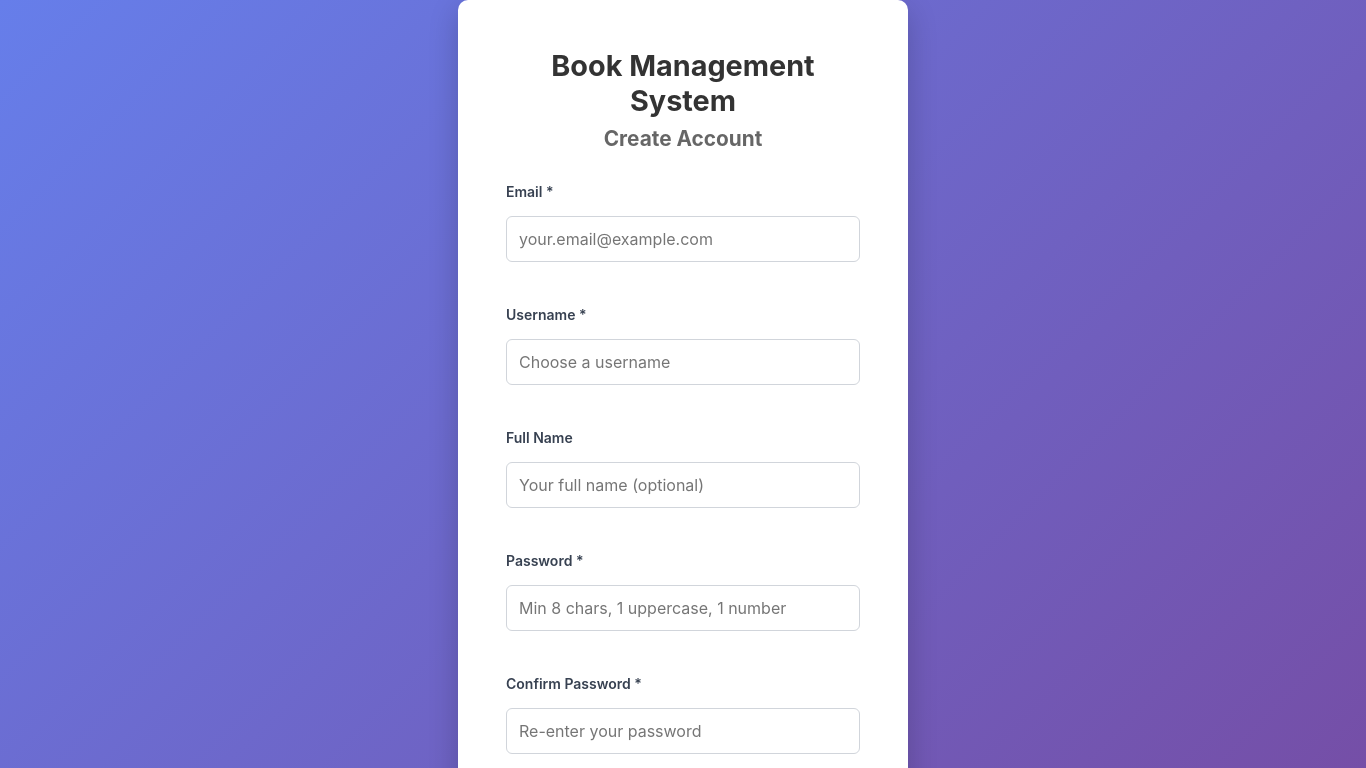
Scenario: Register Component › should validate password contains uppercase letter
Step 1. Type "test@example.com" into the field labelled "Email *" → [683, 239], box [506,216,860,262]
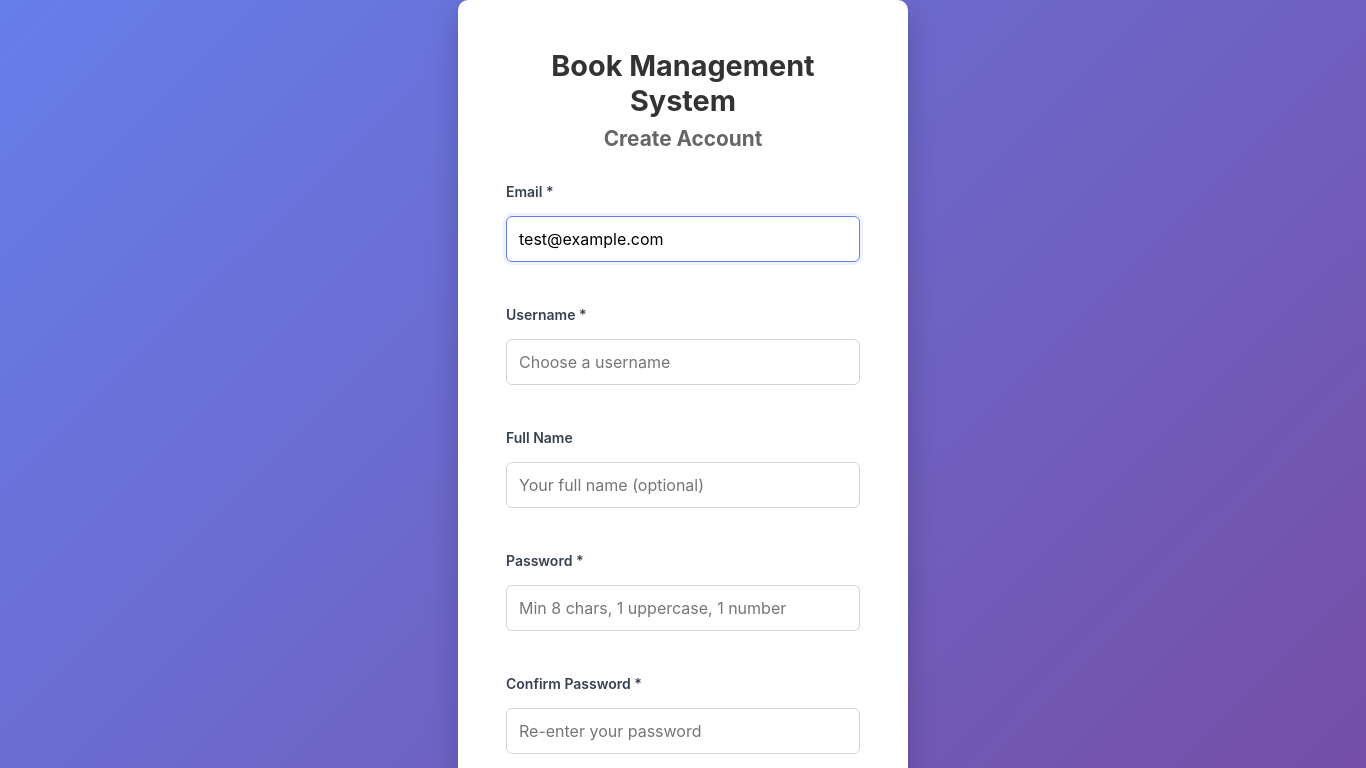
Step 2. Type "testuser" into the field labelled "Username *" → [683, 362], box [506,339,860,385]
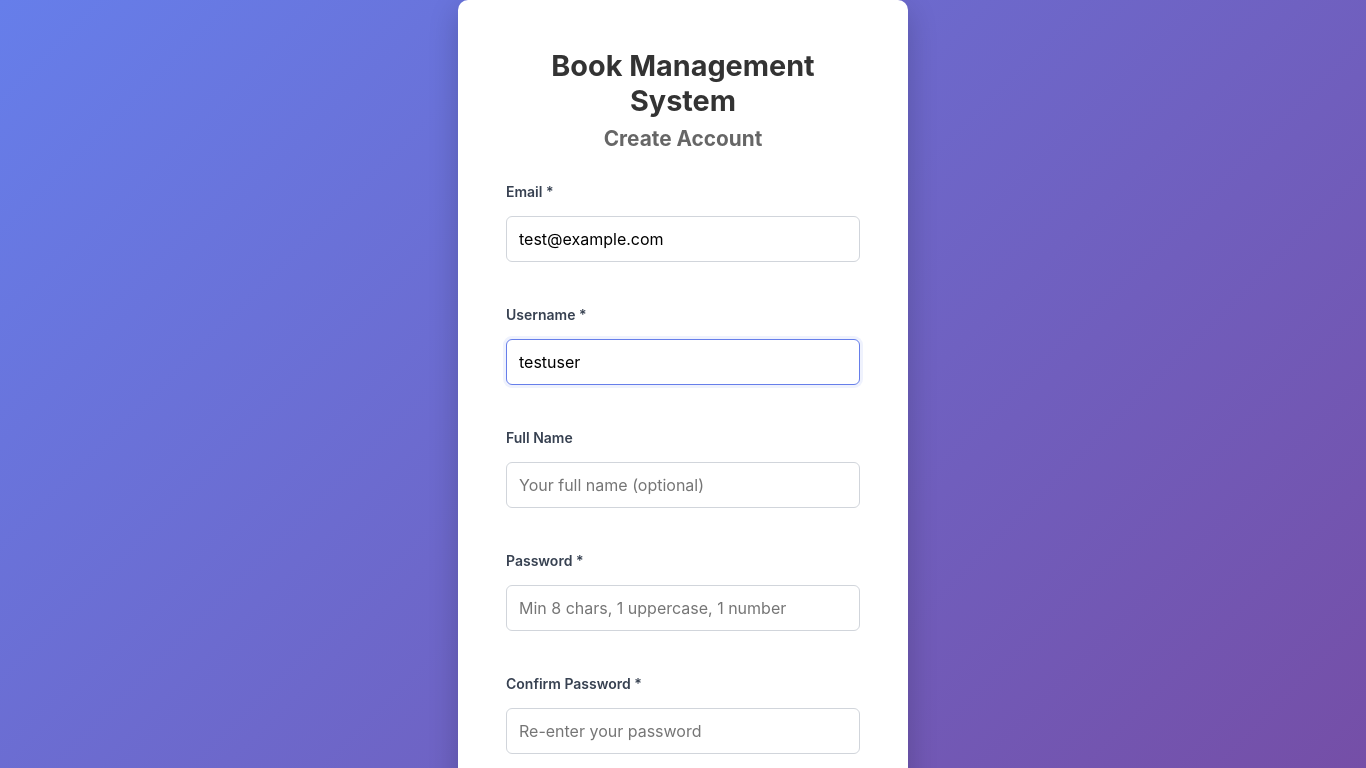
Step 3. Type "password123" into the password field labelled "Password *" → [683, 608], box [506,585,860,631]
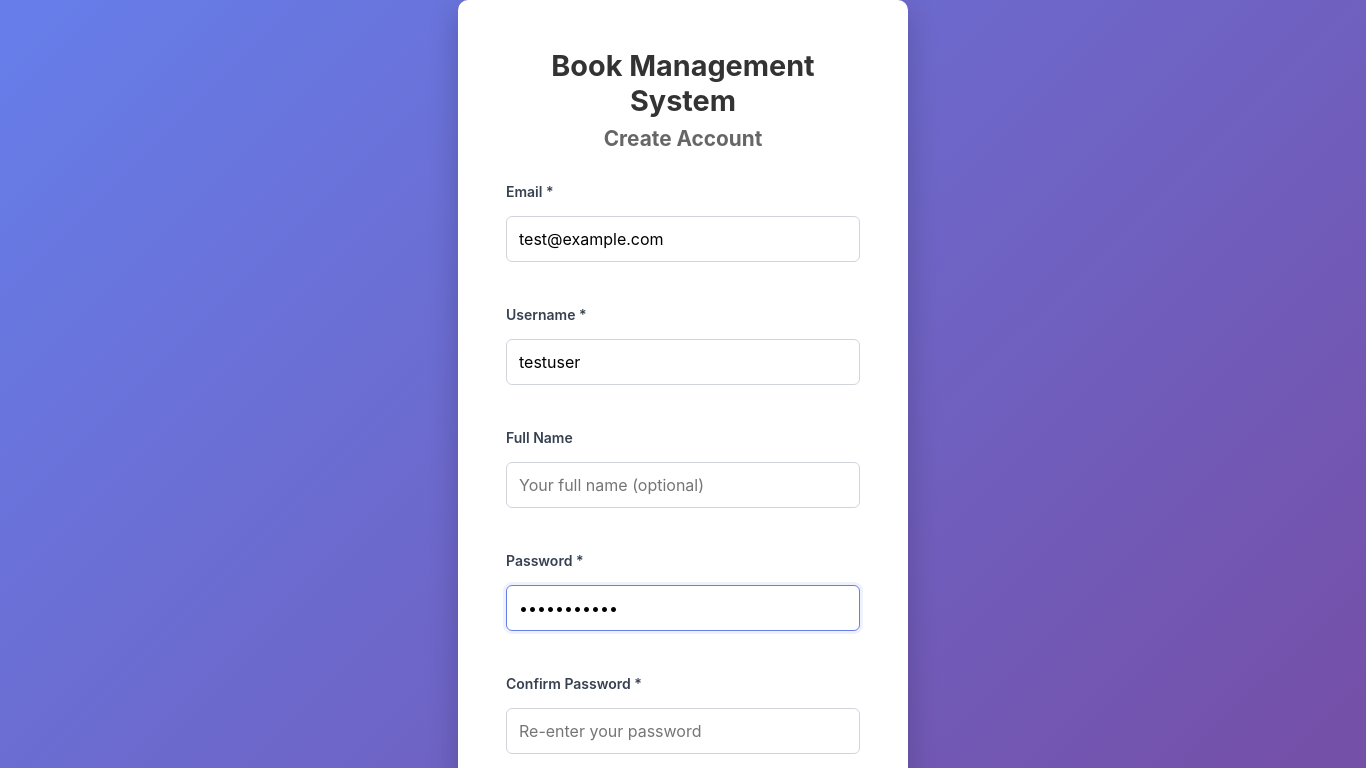
Step 4. Type "password123" into the password field labelled "Confirm Password *" → [683, 731], box [506,708,860,754]
(page scrolled)
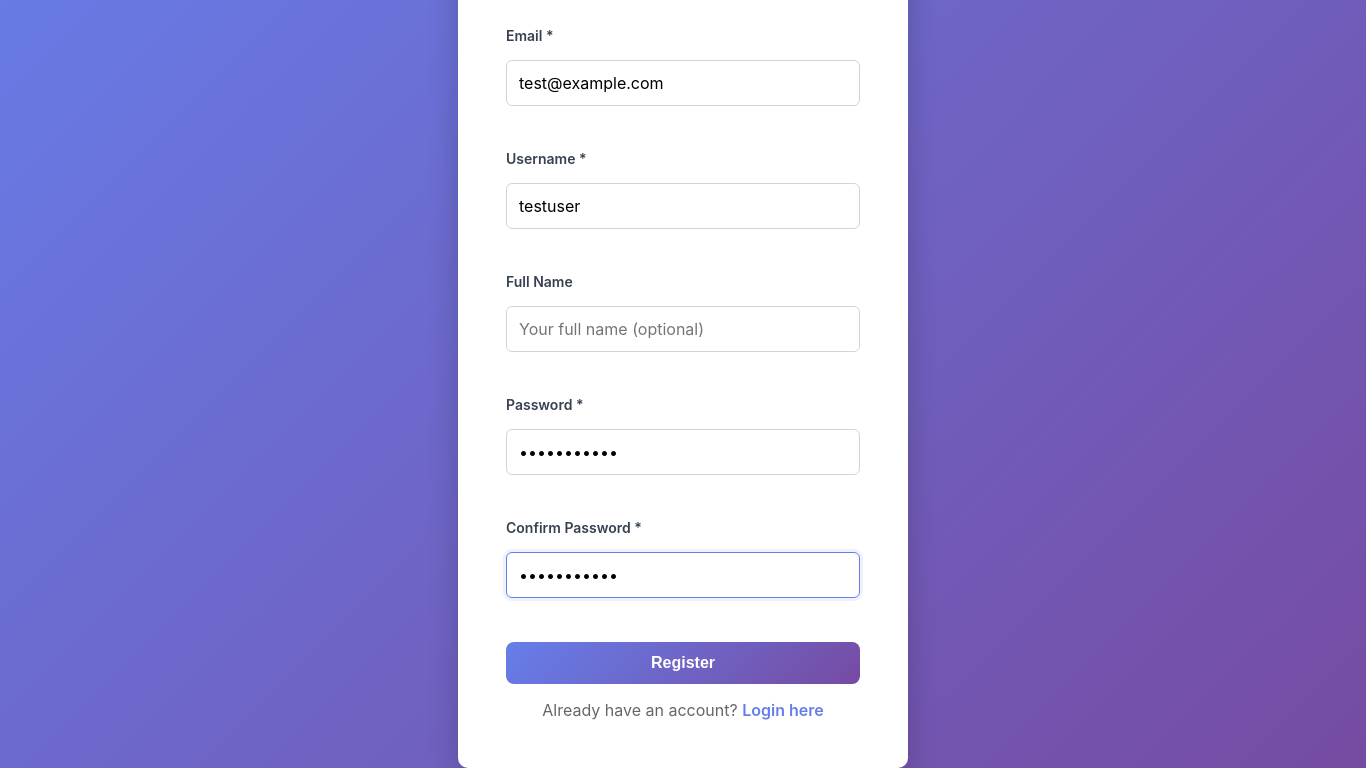
Step 5. Click the button "Register" → [683, 663], box [506,642,860,684]
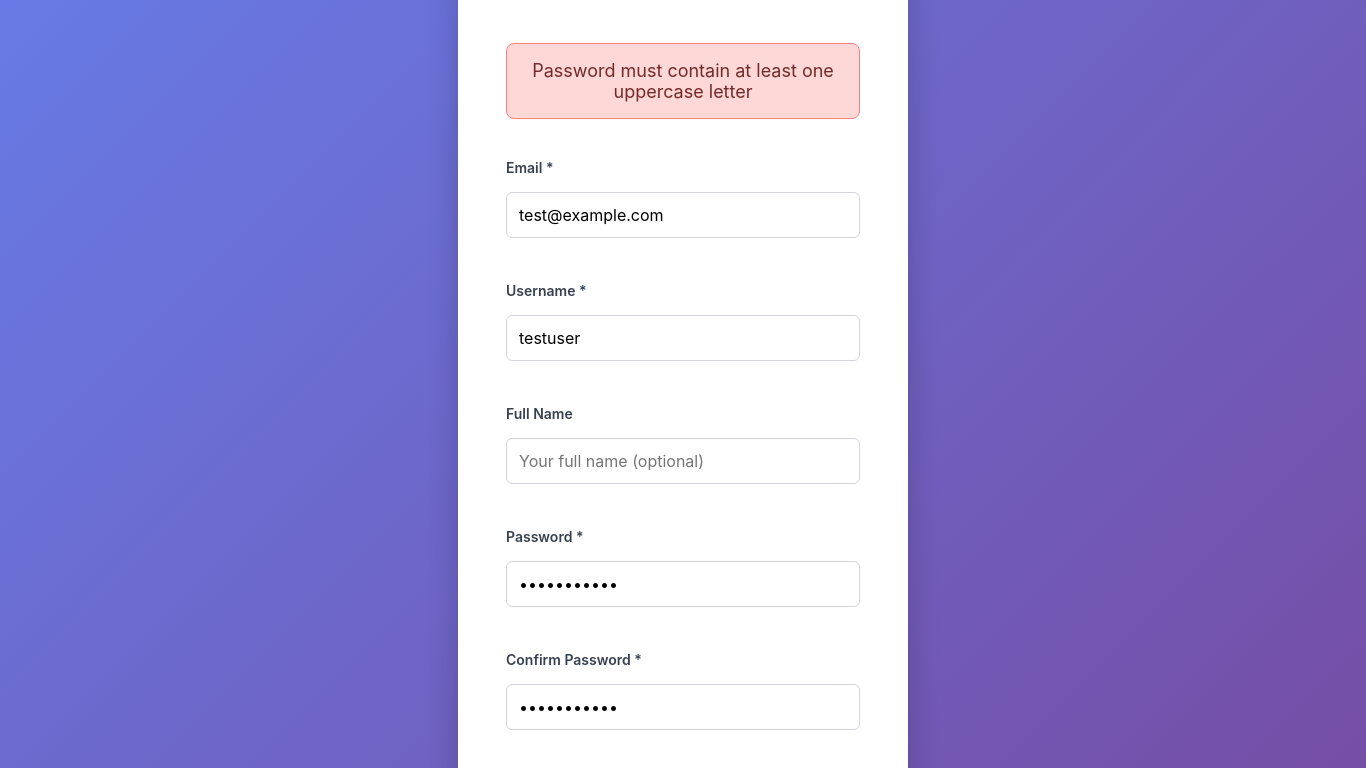
expect the text "Password must contain at least one uppercase letter" is shown: met, box [506,43,860,119]
